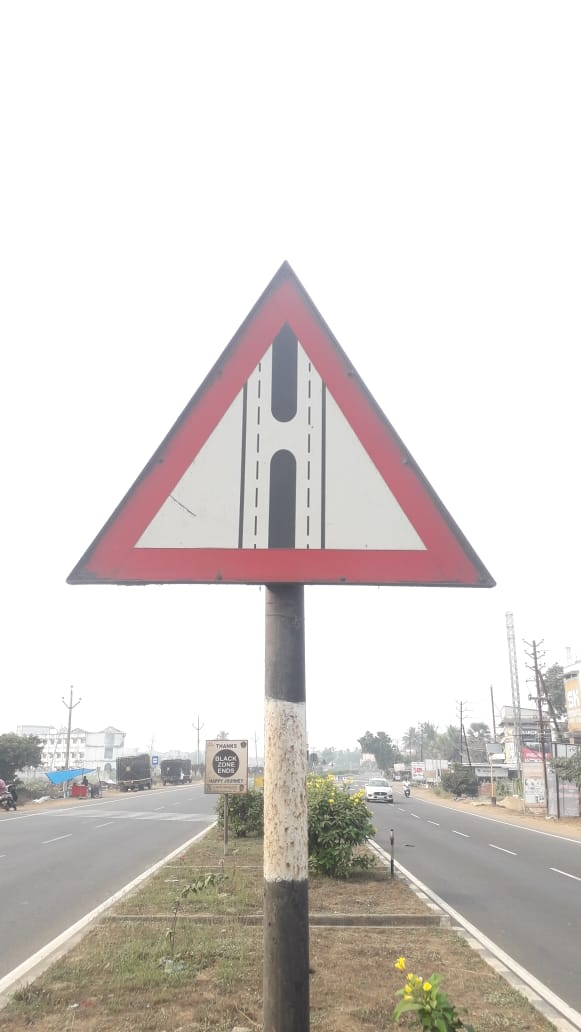highway go straight: (57, 252, 500, 630)
